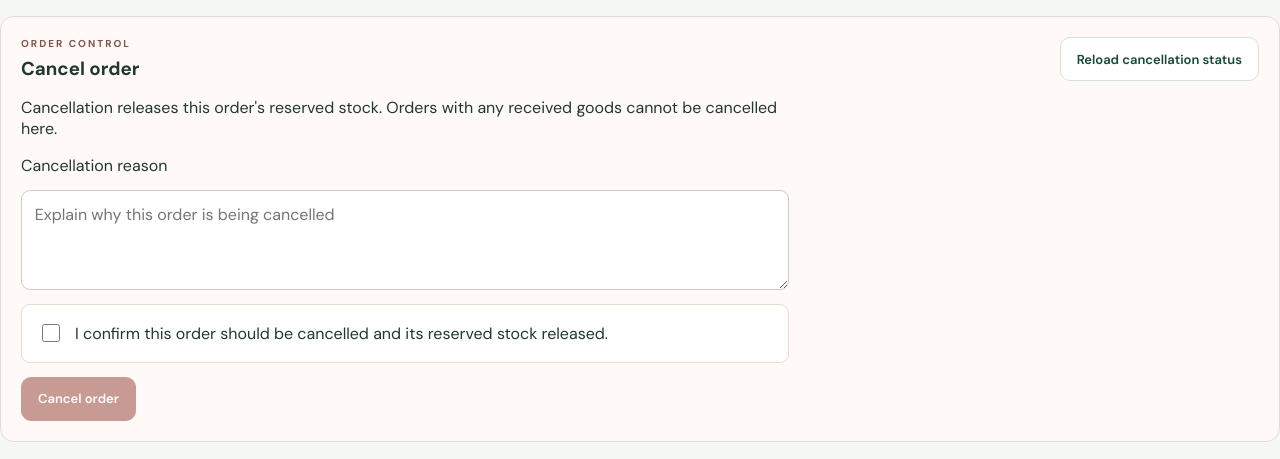
Test case: Order cancellation › clears confirmation when the reason changes
Type "  Buyer withdrew the order.  " into the text box labelled "Cancellation reason" at (405, 240), box [21,190,789,290]
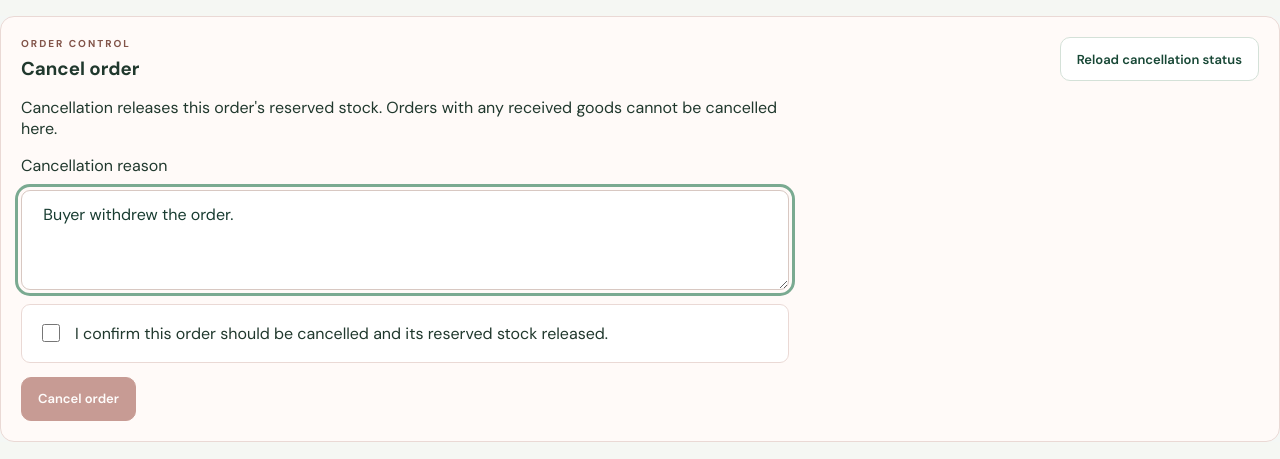
Click the checkbox at (51, 333), box [42,324,60,342]
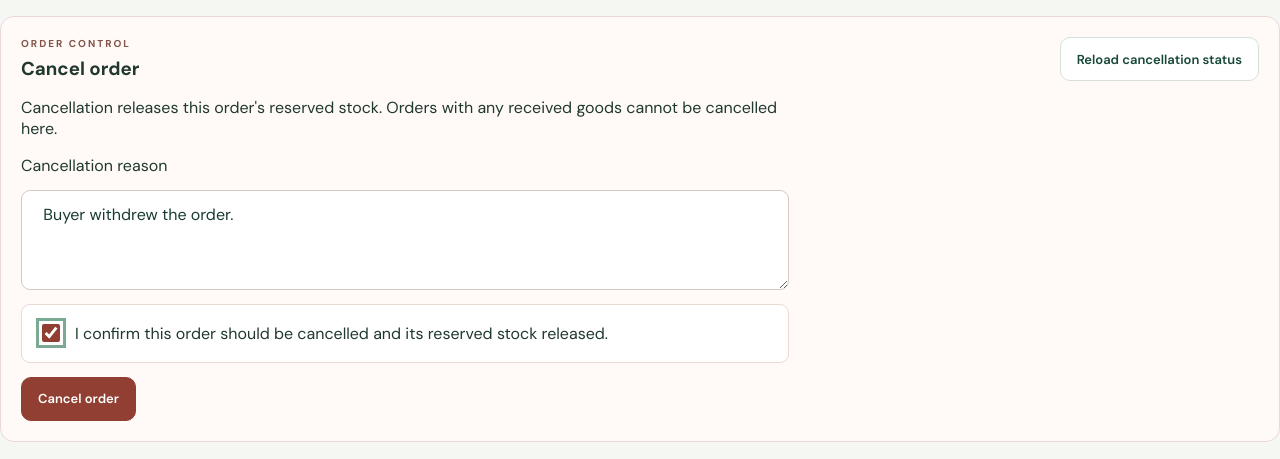
Type " Updated." into the text box labelled "Cancellation reason" at (405, 240), box [21,190,789,290]
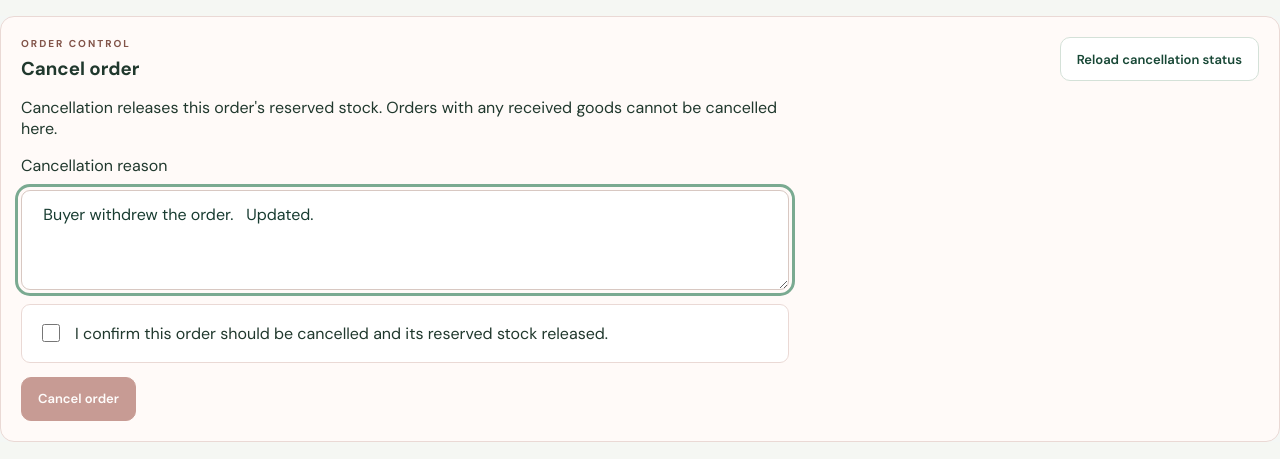
Now the checkbox is not checked, box [42,324,60,342]
Now the button "Cancel order" is disabled, box [21,377,136,421]
